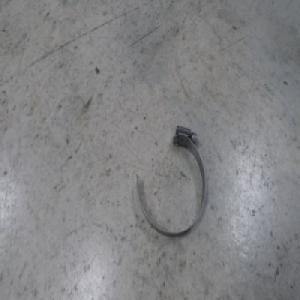AdjustableClamp: (138, 127, 208, 241)
